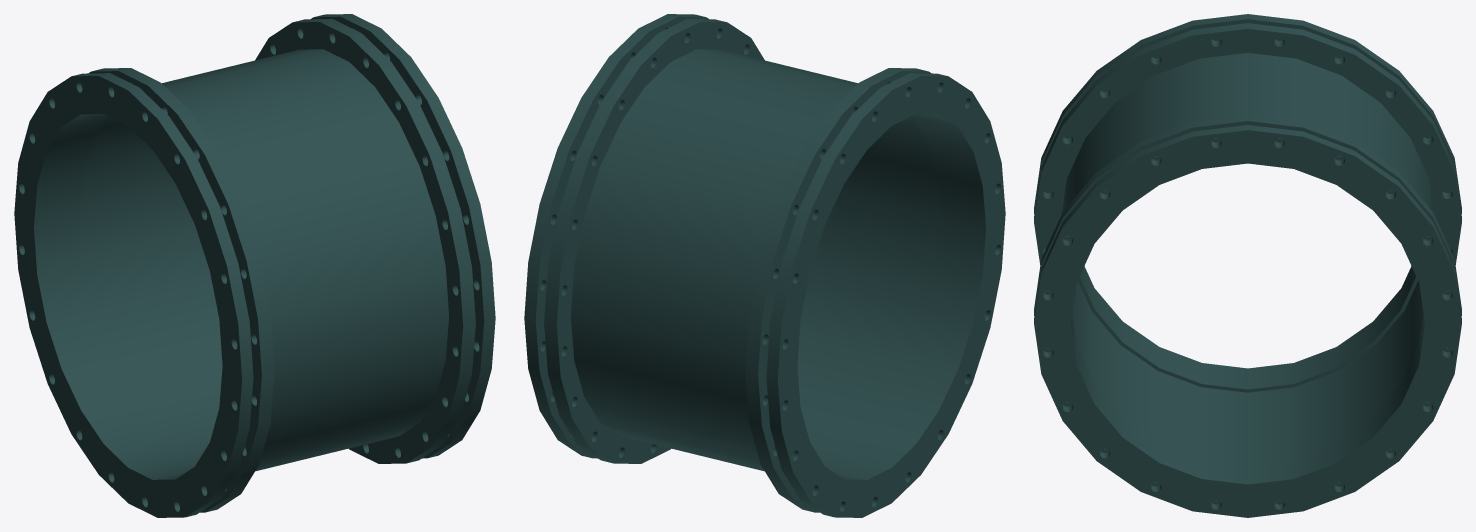
Rendered from mjc.glb.
3 views of the same model, side by side, from view 1: azimuth 30°, elevation 25°; view 2: azimuth 150°, elevation 25°; view 3: azimuth 270°, elevation 25° (orthographic). The views are drawn at different scales.
Visible parts, largest first — view 1: RFU---70ST--EETVK(400); view 2: RFU---70ST--EETVK(400); view 3: RFU---70ST--EETVK(400).
Part boxes in pixels (x1,y1,x2,y2): RFU---70ST--EETVK(400): [14, 14, 495, 517]; RFU---70ST--EETVK(400): [524, 14, 1005, 517]; RFU---70ST--EETVK(400): [1034, 14, 1461, 517].
Bounding box in the file's own units: 0.578 × 0.9 × 0.9.
